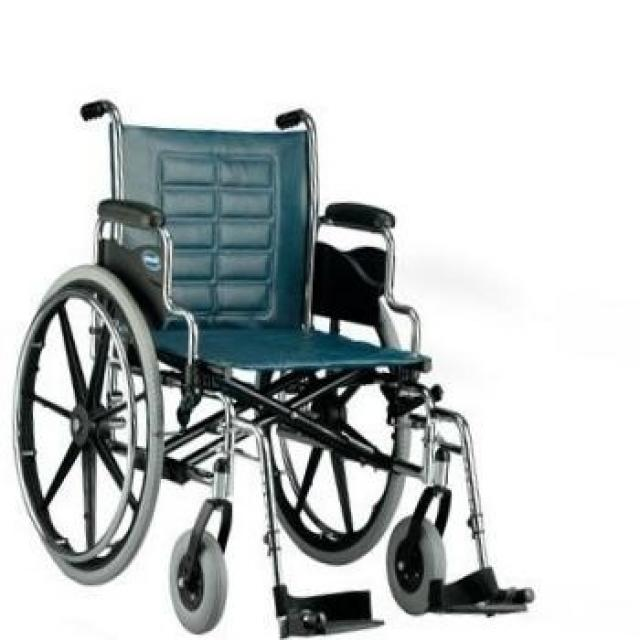wheelchair: (4, 86, 537, 640)
